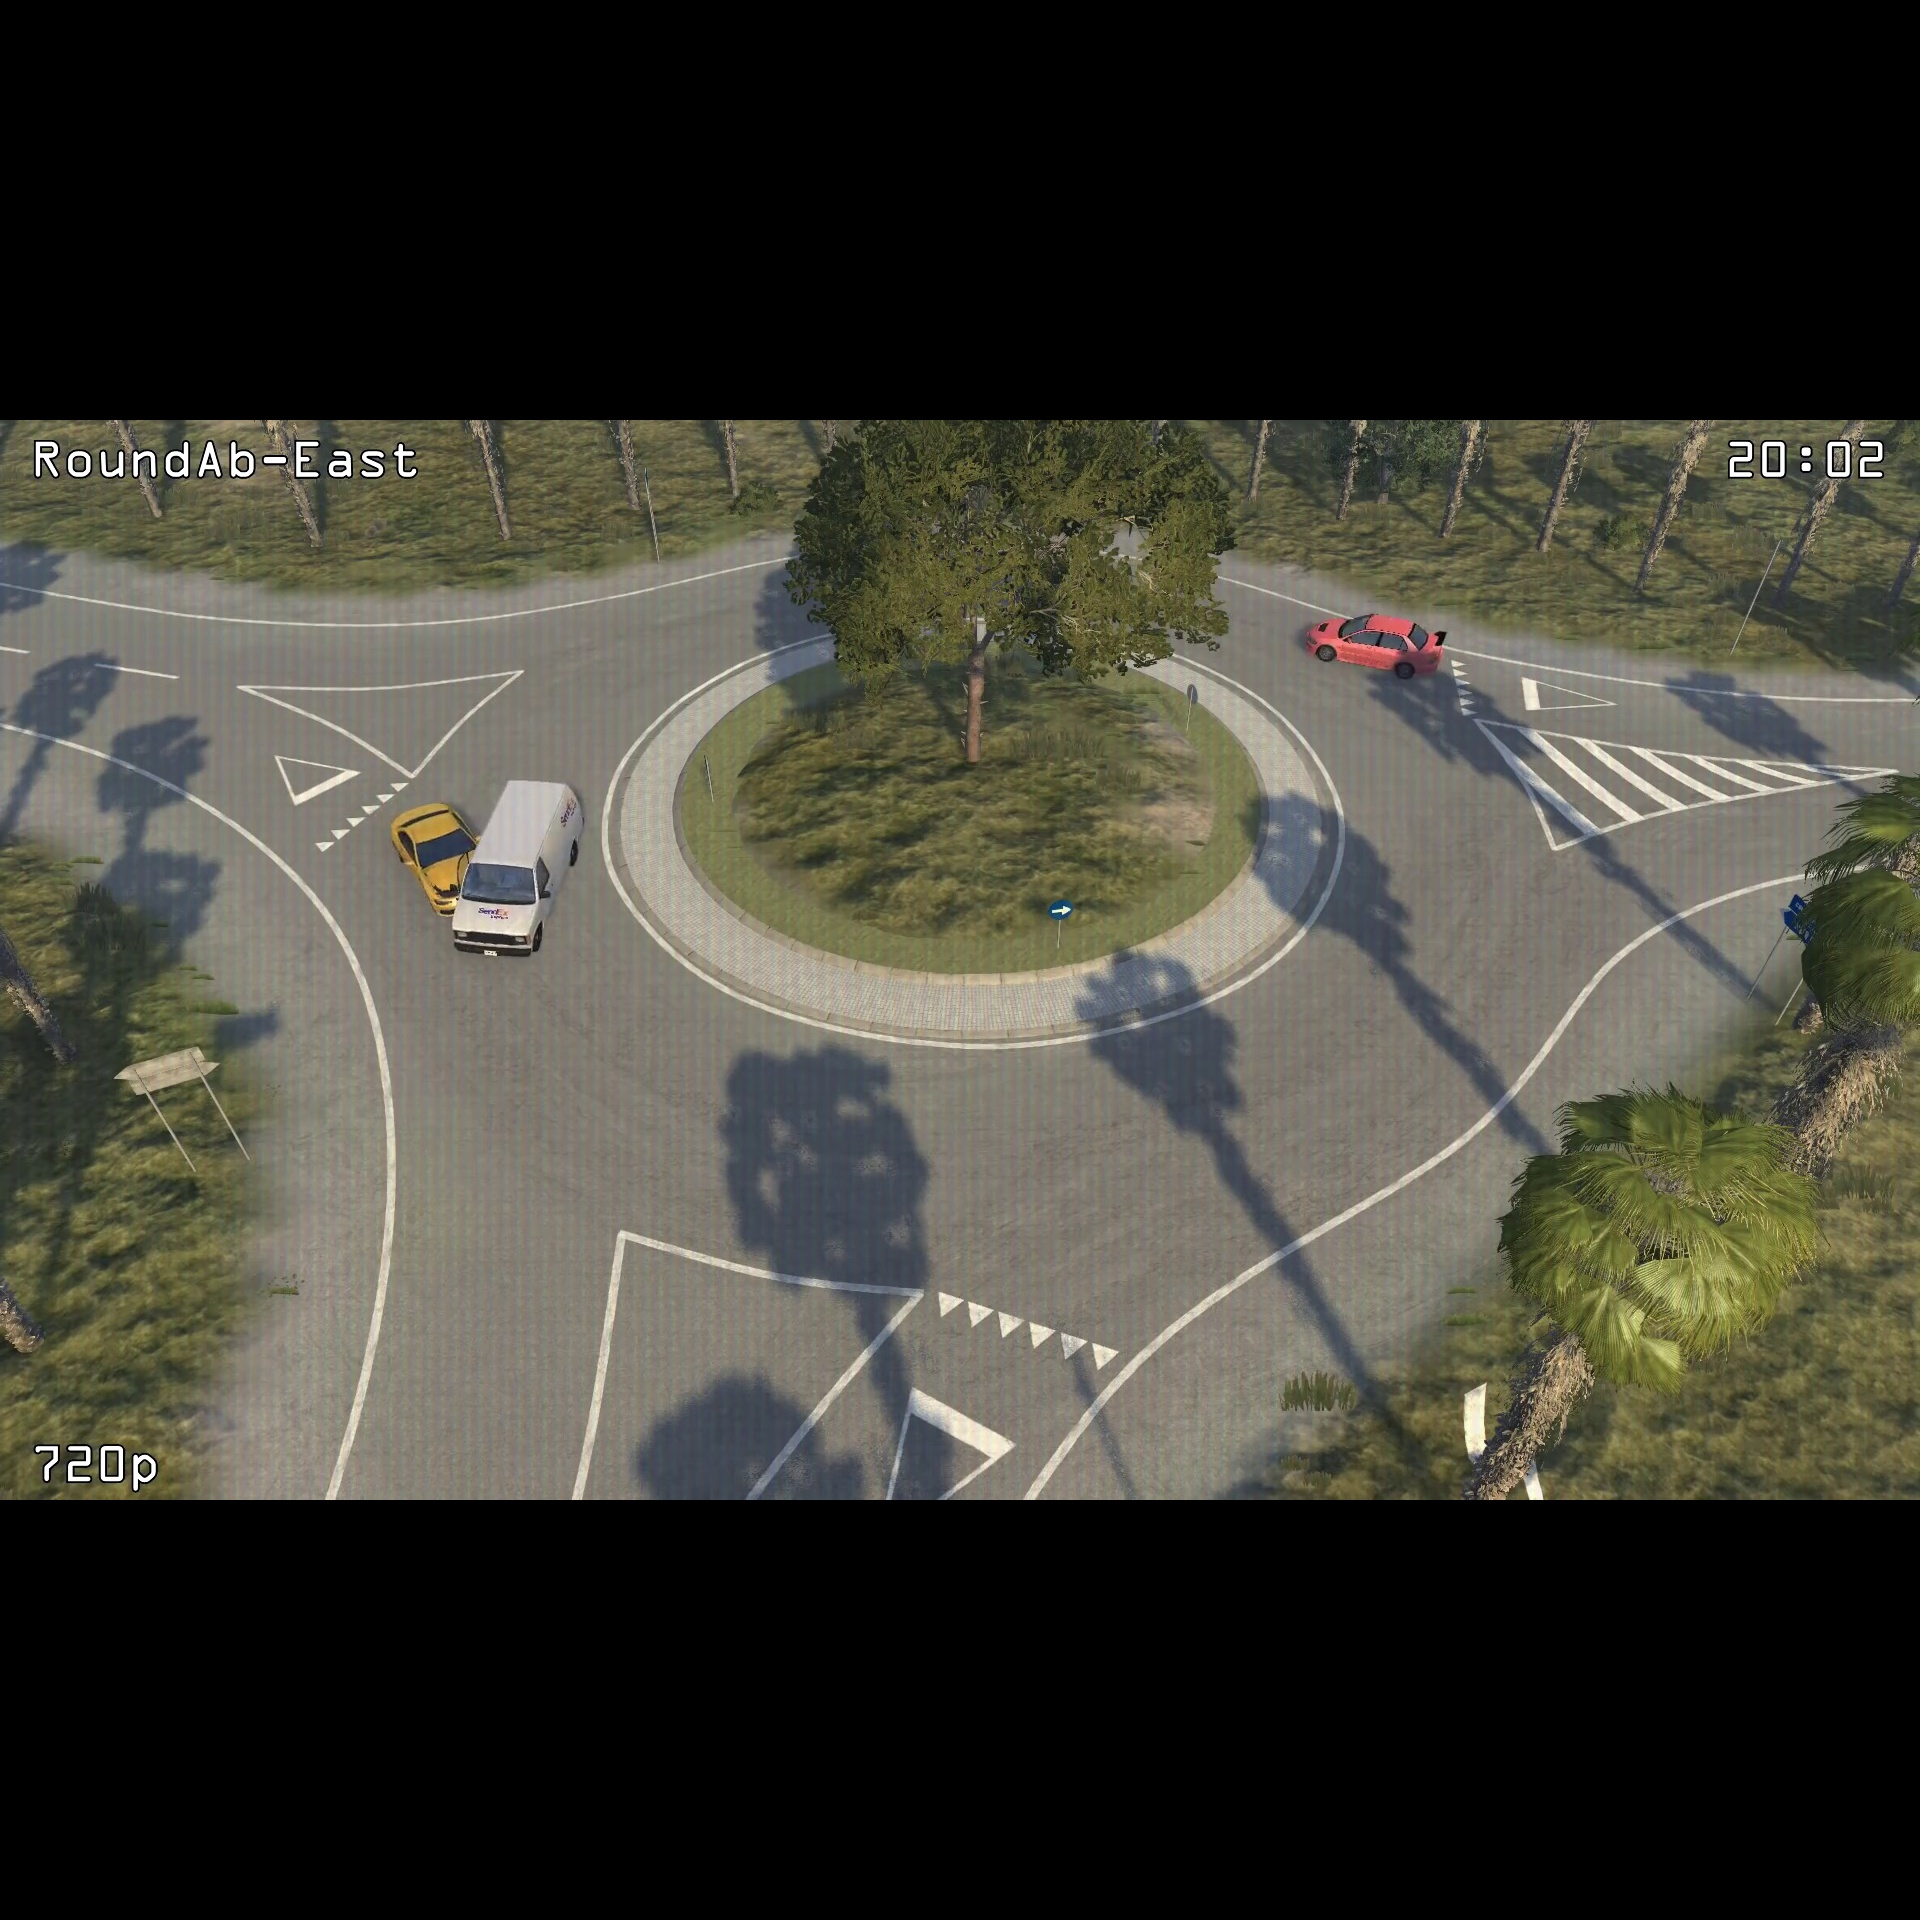vehicle: (445, 774, 593, 965), (1303, 607, 1459, 687), (383, 795, 485, 918)
